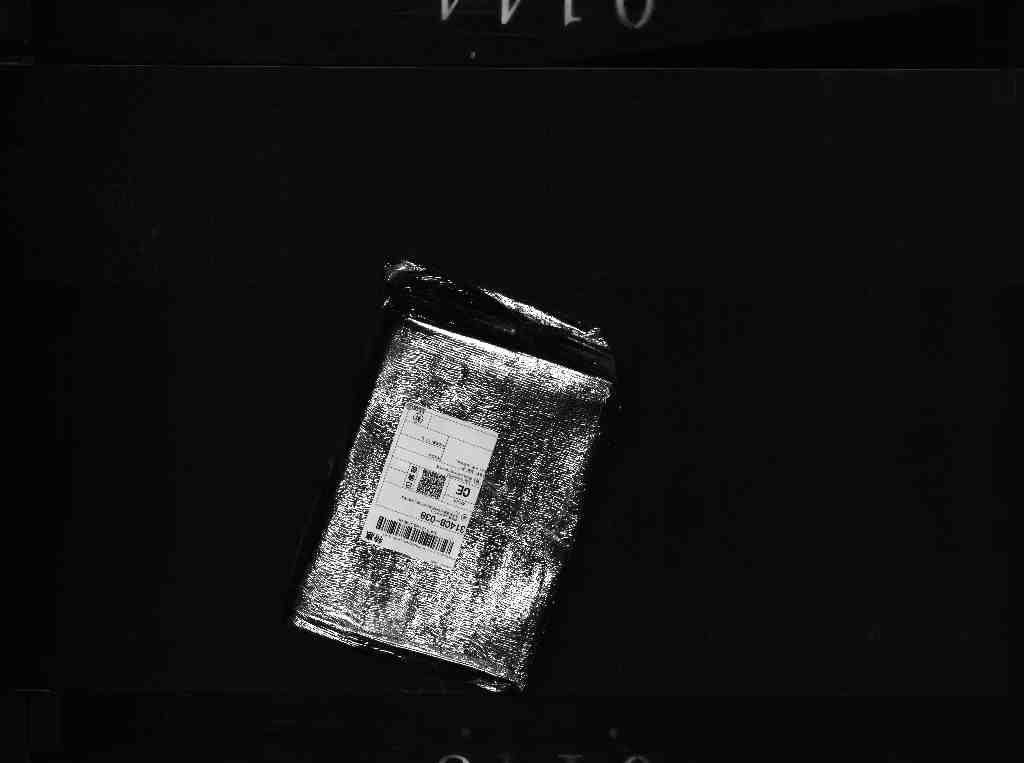box: (265, 281, 637, 690)
